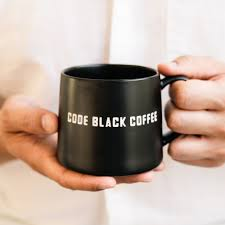mug: (56, 55, 199, 179)
